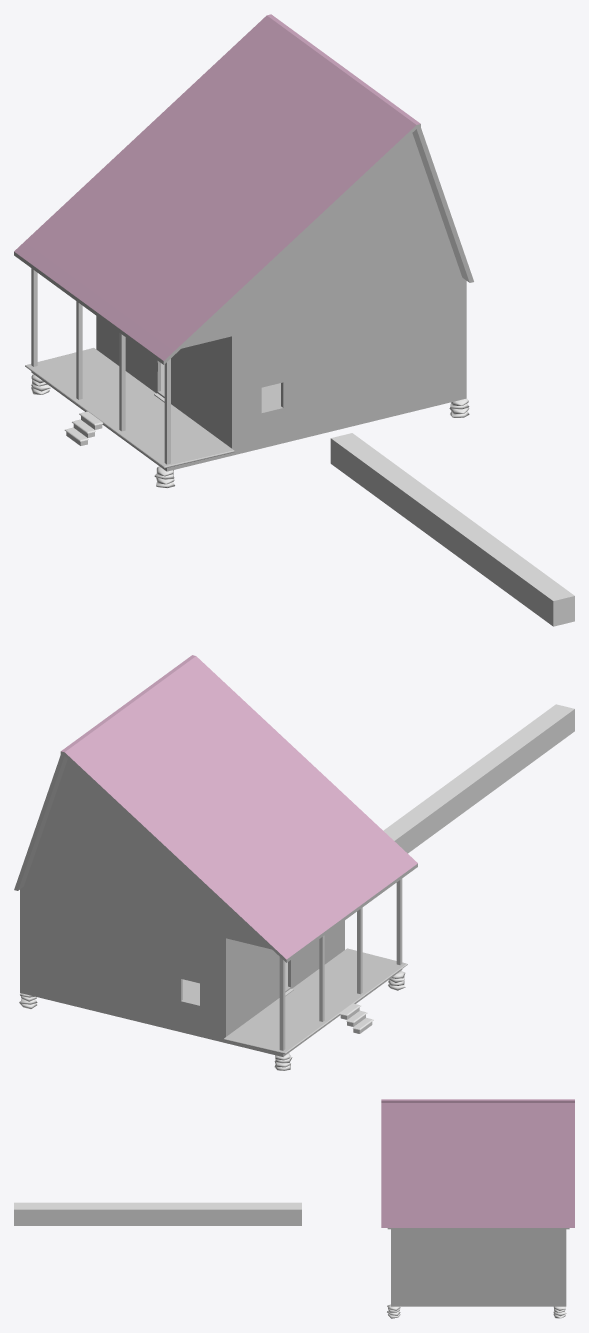
File: housec10.fbx
3 renders of one model, top to bottom at view 1: azimuth 30°, elevation 25°; view 2: azimuth 150°, elevation 25°; view 3: azimuth 270°, elevation 25°, orthographic. The views are drawn at different scales.
Parts seen in each view (by area): view 1: Cube, Hole, Bags, Stairs; view 2: Cube, Hole, Bags, Cube.002, Stairs, Cube.005; view 3: Cube, Hole, Bags.
Boxes of the visible parts, x1,y1,x2,y2 form: Cube: (14,14,473,471); Hole: (330,433,574,626); Bags: (31,374,469,488); Stairs: (64,411,103,445); Cube: (14,655,417,1056); Hole: (383,704,574,853); Bags: (19,971,405,1070); Cube.002: (279,957,285,1050); Stairs: (340,1003,373,1033); Cube.005: (396,878,402,964); Cube: (381,1099,574,1306); Hole: (14,1202,301,1225); Bags: (387,1304,566,1318).
Size of the model in its own units: 2076 by 1856 by 4697.
